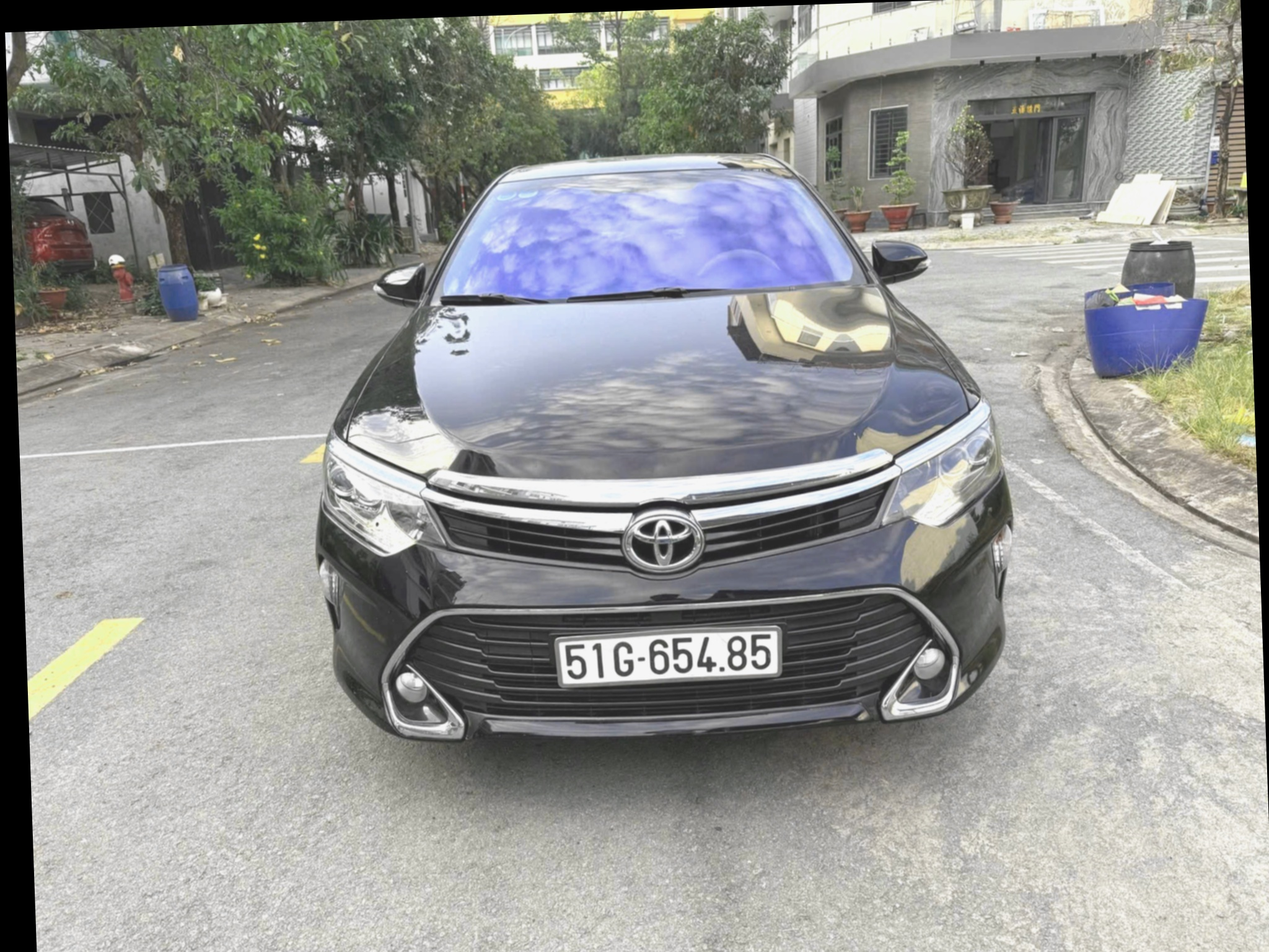Bien-so: (559, 629, 794, 686)
